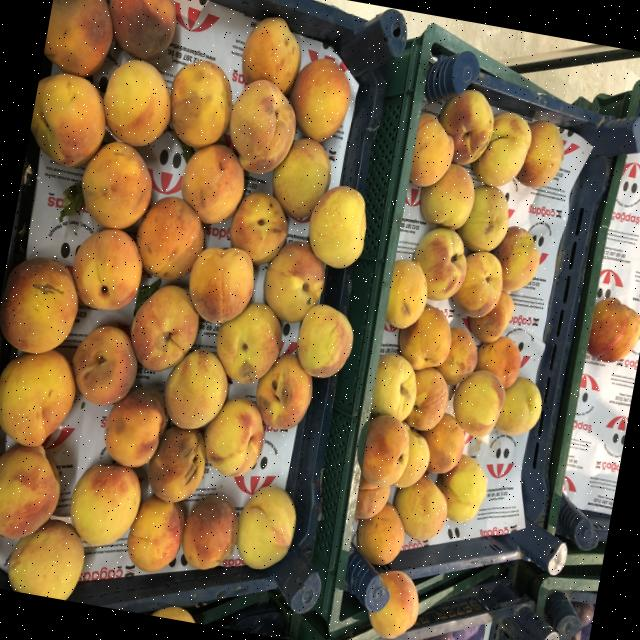peach: (0, 257, 77, 353), (0, 350, 75, 446), (29, 73, 104, 166), (228, 79, 295, 173), (7, 518, 83, 600), (80, 141, 150, 229), (102, 59, 169, 146), (69, 463, 139, 545), (135, 196, 203, 280), (130, 285, 197, 370), (71, 228, 141, 309), (0, 445, 58, 538), (169, 60, 231, 147), (215, 302, 281, 383), (42, 0, 112, 76), (70, 326, 136, 405), (288, 57, 349, 142), (164, 348, 227, 428), (104, 387, 167, 467), (180, 143, 243, 223), (263, 240, 324, 322), (188, 247, 253, 323), (235, 485, 294, 568), (308, 185, 365, 268), (271, 138, 329, 219), (203, 398, 263, 476), (241, 17, 299, 95), (126, 495, 184, 571), (472, 111, 530, 186), (181, 494, 236, 569), (437, 89, 492, 164), (229, 192, 287, 263), (296, 304, 352, 377), (108, 0, 174, 59), (412, 227, 465, 300), (393, 474, 446, 541), (360, 415, 409, 487), (420, 163, 473, 229), (367, 570, 418, 638), (586, 297, 639, 362), (452, 370, 504, 436), (456, 184, 507, 251), (408, 112, 453, 186), (398, 304, 449, 369), (451, 251, 501, 317), (515, 120, 562, 187), (491, 226, 538, 292), (370, 353, 415, 421), (356, 502, 403, 565), (404, 367, 447, 430), (420, 413, 463, 473), (434, 327, 476, 384), (474, 336, 520, 388), (468, 290, 513, 342)
